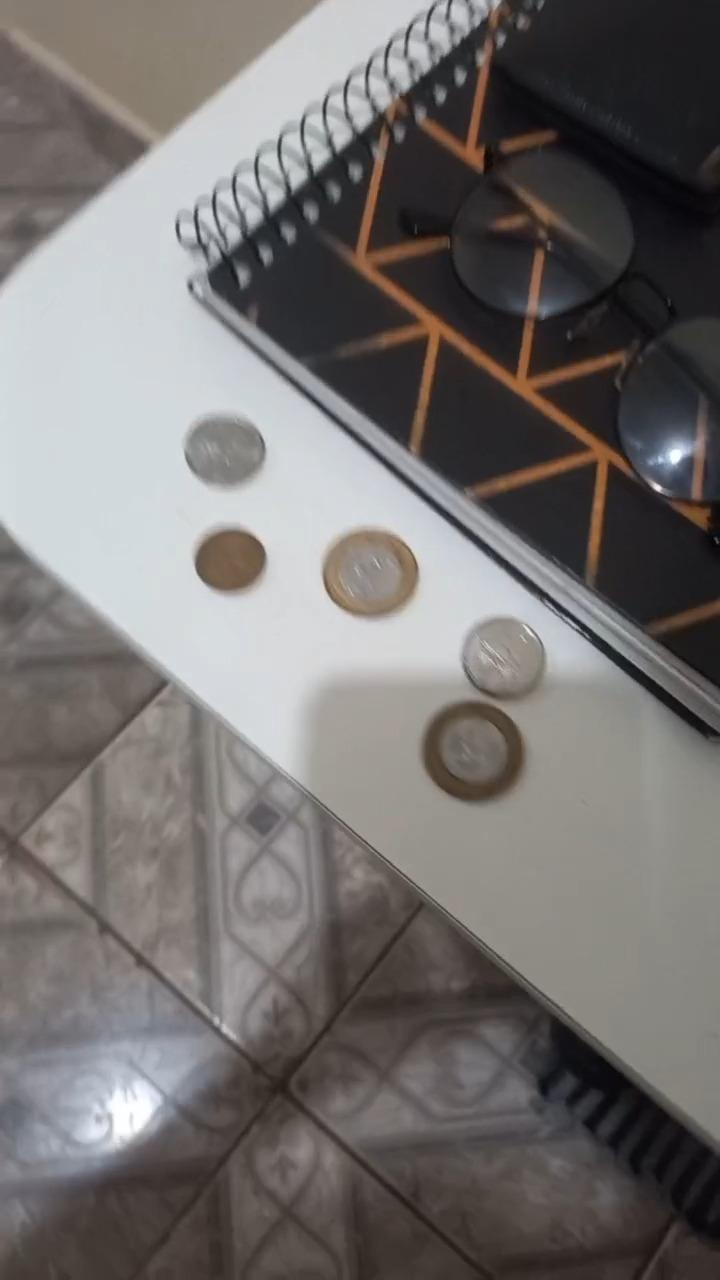1 real: (423, 700, 526, 802), (321, 529, 419, 617)
10 cent: (193, 527, 268, 594)
25 cent: (461, 616, 547, 698), (183, 415, 266, 487)
